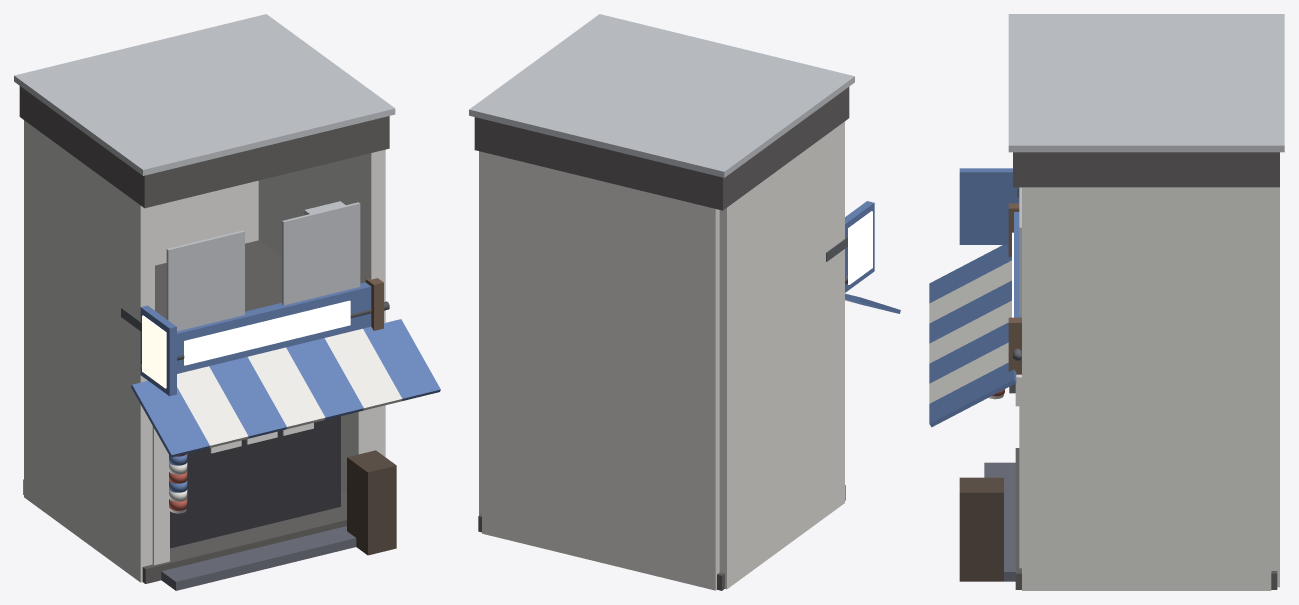
Rendered from prop_shop_tokoya.glb.
The picture shows the model from 3 angles, left to right: view 1: azimuth 30°, elevation 25°; view 2: azimuth 150°, elevation 25°; view 3: azimuth 270°, elevation 25°; orthographic projection. The views are drawn at different scales.
Parts seen in each view (by area): view 1: shop_tokoya; view 2: shop_tokoya; view 3: shop_tokoya.
Part boxes in pixels (box(x1,y1,x2,y2)): shop_tokoya: box(14, 14, 440, 590); shop_tokoya: box(469, 14, 900, 590); shop_tokoya: box(929, 14, 1284, 590).
Bounding box in the file's own units: 3.73 × 5.54 × 3.99.
